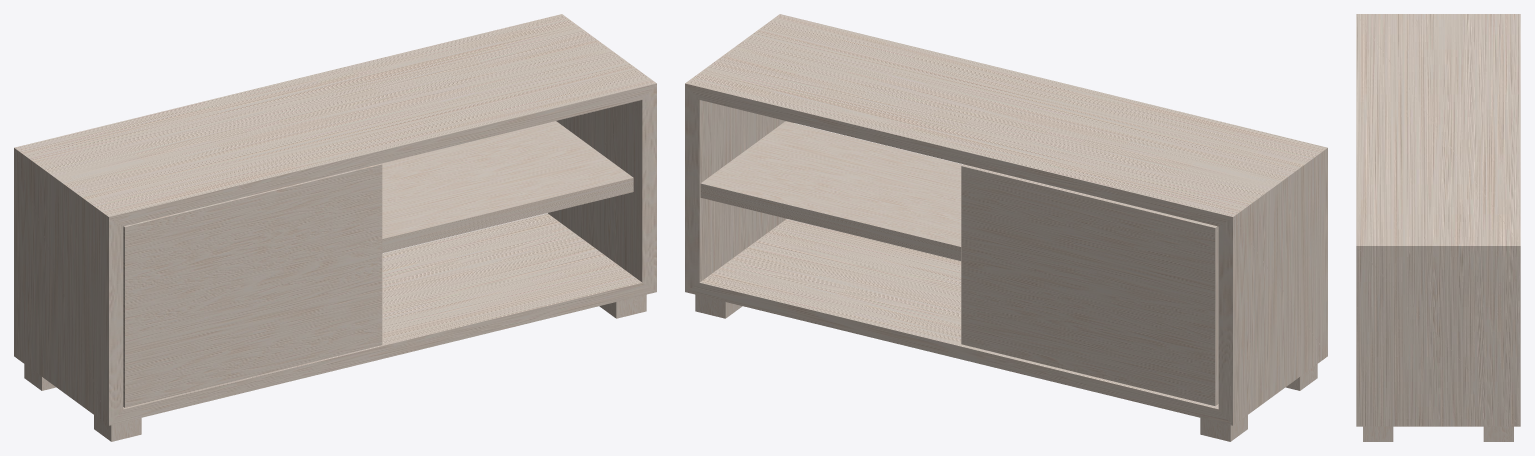
Rendered from TVtable.gltf.
3 renders of one model, left to right at view 1: azimuth 30°, elevation 25°; view 2: azimuth 150°, elevation 25°; view 3: azimuth 270°, elevation 25°, orthographic. The views are drawn at different scales.
Visible parts, largest first — view 1: TVtable; view 2: TVtable; view 3: TVtable.
Part boxes in pixels (<box>): TVtable: <box>14,14,656,441</box>; TVtable: <box>685,14,1327,441</box>; TVtable: <box>1356,14,1520,441</box>.
Bounding box in the file's own units: 1 × 0.3998 × 0.3.
Materials: 1 (1 with a texture image).
